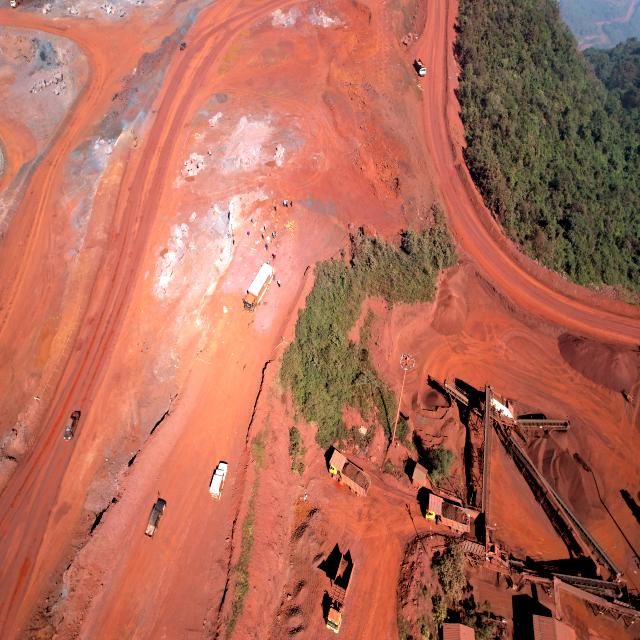Dumper truck: (328, 447, 372, 499), (325, 565, 355, 631), (5, 362, 37, 416), (424, 498, 470, 528), (414, 58, 426, 76), (9, 0, 24, 8)
car: (210, 460, 230, 500), (145, 498, 166, 536), (64, 411, 82, 442), (180, 40, 188, 50)
person: (276, 258, 280, 266), (247, 230, 251, 237), (273, 231, 275, 238)
